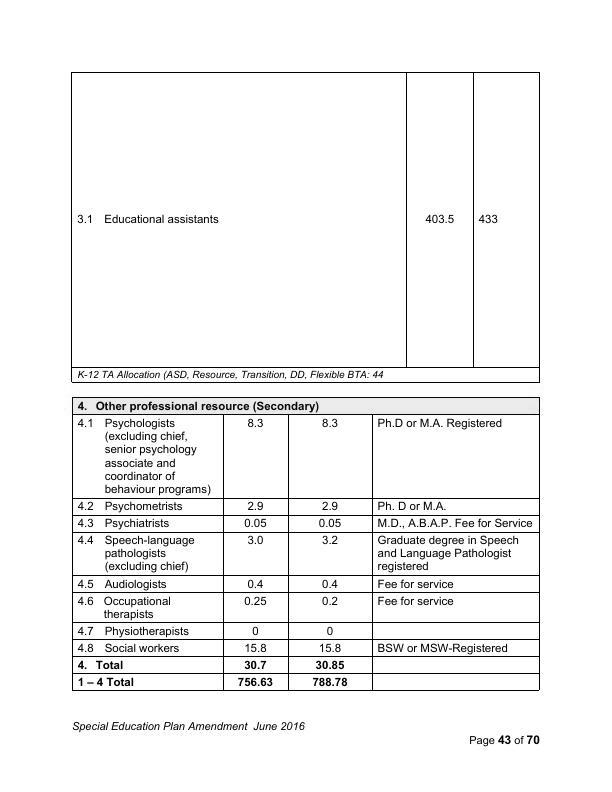table: (67, 66, 545, 387), (67, 393, 545, 696)
text: (69, 716, 309, 737), (464, 732, 543, 749)
